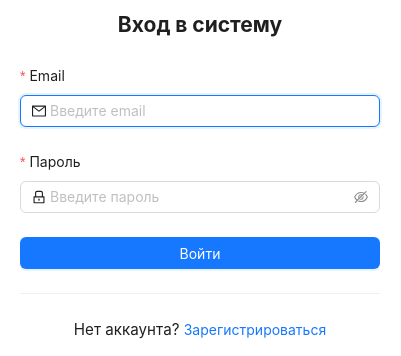
Test case: LoginForm › Валидация формы › должен показывать ошибку при коротком пароле
The image size is (401, 356).
Type "test@example.com" into the field with test id "email-input". click: (209, 111)
box: [50, 100, 368, 122]
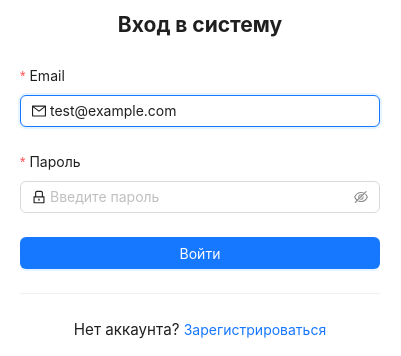
Type "123" into the password field with test id "password-input". click: (200, 197)
box: [50, 186, 350, 208]
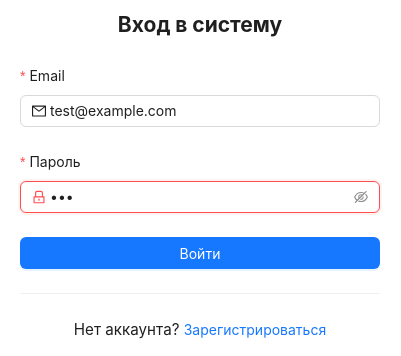
Click the button "Войти". click: (200, 253)
box: [20, 237, 380, 269]
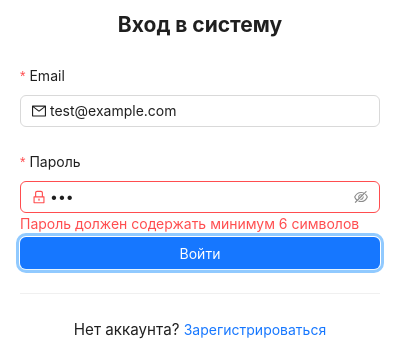
Expected: the text "Пароль должен содержать минимум 6 символов" is shown, [20, 213, 380, 235]
